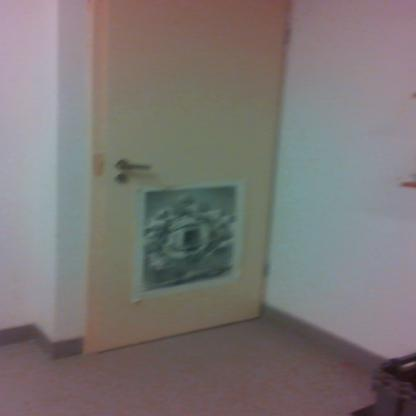door: (102, 0, 266, 330)
hinged: (260, 258, 270, 279), (284, 24, 294, 44)
lever: (118, 160, 155, 170)
